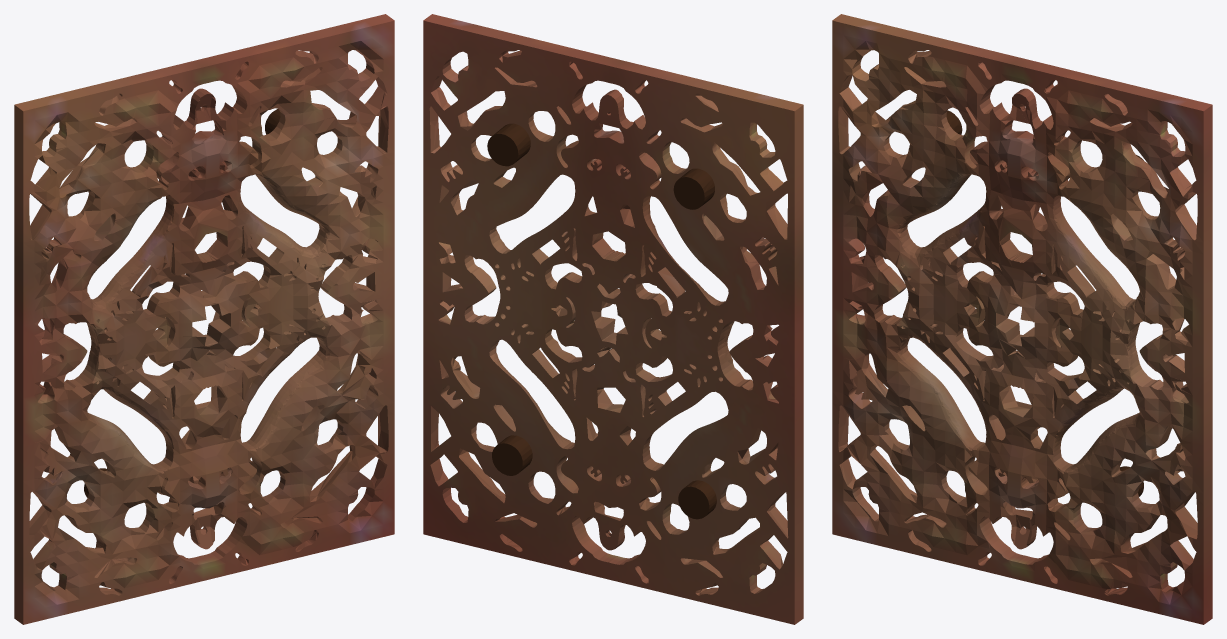
Rendered from Carpet_01_LOD1.glb.
The picture shows the model from 3 angles, left to right: view 1: azimuth 30°, elevation 25°; view 2: azimuth 150°, elevation 25°; view 3: azimuth 330°, elevation 25°; orthographic projection.
Visible parts, largest first — view 1: Cylinder; view 2: Cylinder; view 3: Cylinder.
Boxes of the visible parts, x1,y1,x2,y2 form: Cylinder: (14, 14, 394, 624); Cylinder: (423, 14, 803, 624); Cylinder: (832, 14, 1212, 624).
Size of the model in its own units: 1 by 1.32 by 0.1285.
